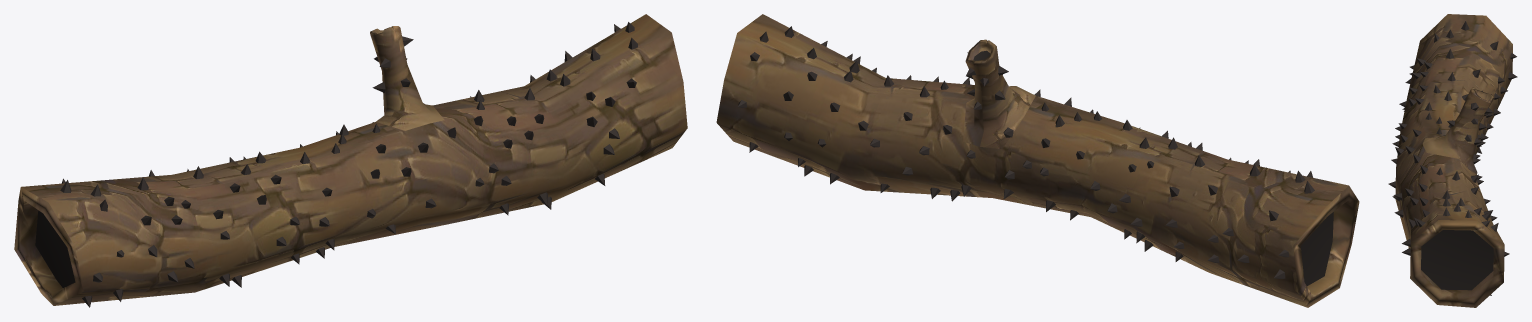
Rendered from Tronco B.fbx.
3 renders of one model, left to right at view 1: azimuth 30°, elevation 25°; view 2: azimuth 150°, elevation 25°; view 3: azimuth 270°, elevation 25°, orthographic. The views are drawn at different scales.
Visible parts, largest first — view 1: pCylinder2; view 2: pCylinder2; view 3: pCylinder2.
Part boxes in pixels (x1,y1,x2,y2): pCylinder2: (14,14,687,307); pCylinder2: (716,14,1359,307); pCylinder2: (1388,14,1517,307).
Size of the model in its own units: 9.69 by 2.83 by 2.35.
